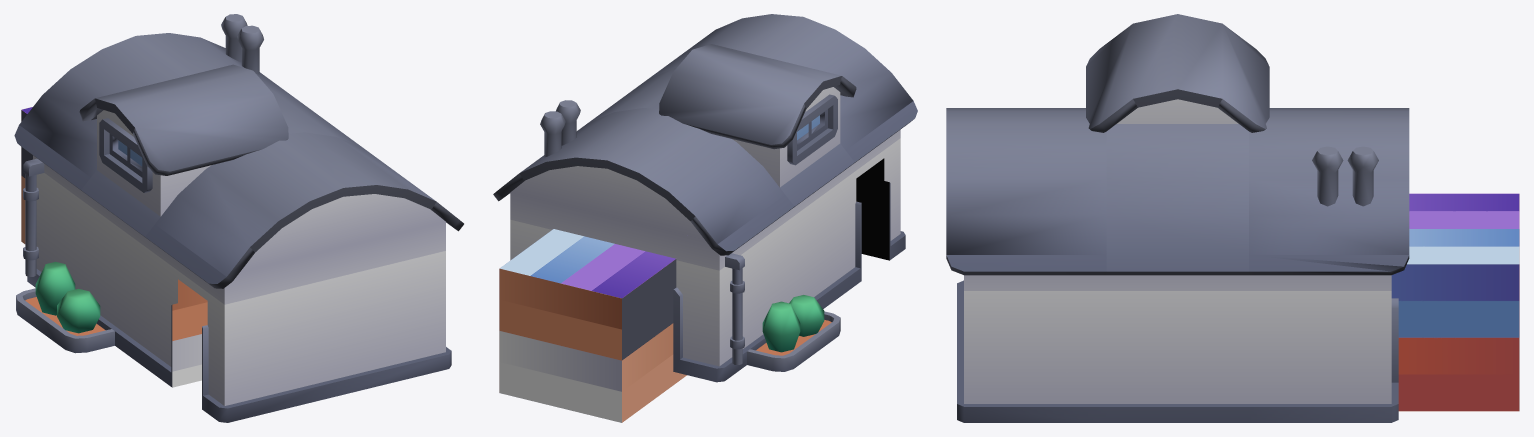
The model's file is building-j-enterable.glb.
The picture shows the model from 3 angles, left to right: view 1: azimuth 30°, elevation 25°; view 2: azimuth 150°, elevation 25°; view 3: azimuth 270°, elevation 25°; orthographic projection. The views are drawn at different scales.
Parts seen in each view (by area): view 1: building-j-enterable; view 2: building-j-enterable; view 3: building-j-enterable.
Part boxes in pixels (left/top/right/bottom): building-j-enterable: left=14, top=14, right=463, bottom=422; building-j-enterable: left=493, top=14, right=917, bottom=422; building-j-enterable: left=946, top=14, right=1519, bottom=422.
Size of the model in its own units: 1.03 by 0.9111 by 1.61.
1 material, 1 textured.
